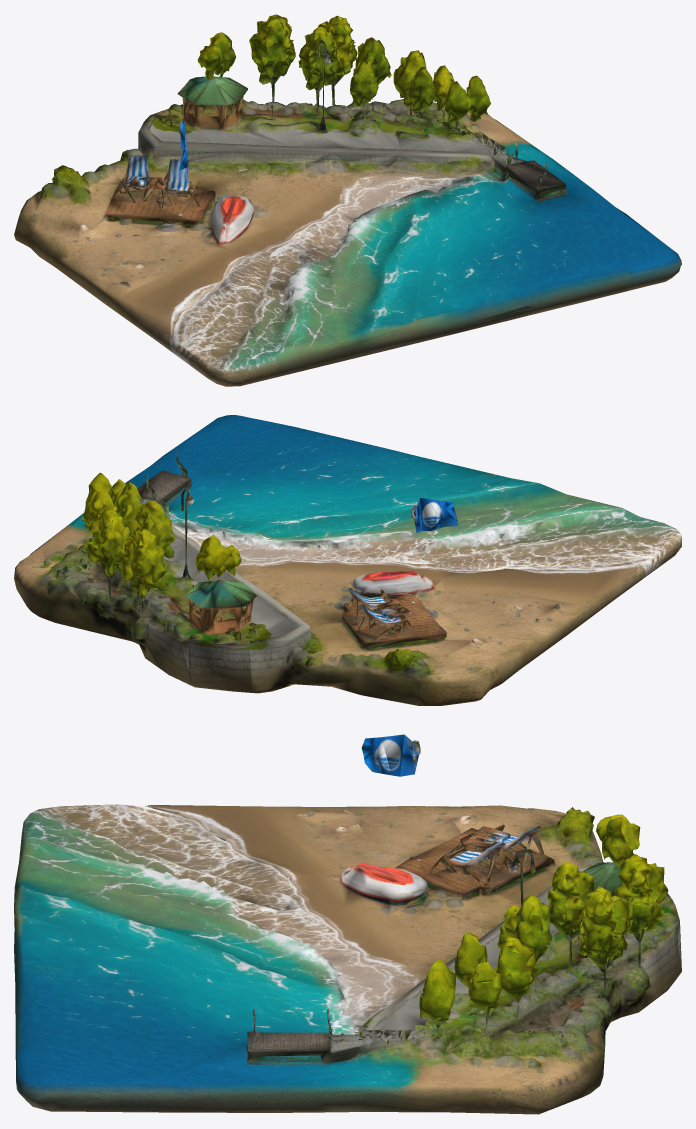
The model's file is city_ordu_altinordu_seafront.glb.
3 views of the same model, one above another, from view 1: azimuth 30°, elevation 25°; view 2: azimuth 150°, elevation 25°; view 3: azimuth 270°, elevation 25° (orthographic). The views are drawn at different scales.
Visible parts, largest first — view 1: Mesh1.0; view 2: Mesh1.0; view 3: Mesh1.0.
Part boxes in pixels (<box>): Mesh1.0: <box>14,14,681,386</box>; Mesh1.0: <box>14,415,681,705</box>; Mesh1.0: <box>14,734,681,1114</box>.
Bounding box in the file's own units: 21.75 × 6 × 21.31.
Materials: 1 (1 with a texture image).
